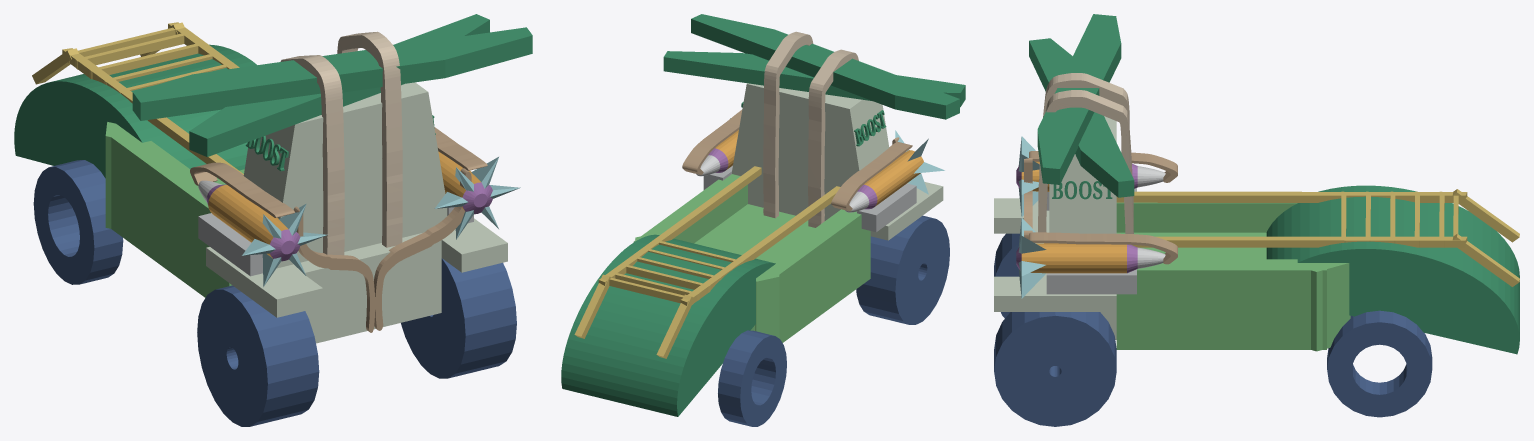
File: POGOlux-2.glb
The picture shows the model from 3 angles, left to right: view 1: azimuth 30°, elevation 25°; view 2: azimuth 150°, elevation 25°; view 3: azimuth 270°, elevation 25°; orthographic projection. The views are drawn at different scales.
Visible parts, largest first — view 1: Mesh_Mesh_head_geo.001_lambert2SG.001; view 2: Mesh_Mesh_head_geo.001_lambert2SG.001; view 3: Mesh_Mesh_head_geo.001_lambert2SG.001.
Part boxes in pixels (x1=…): Mesh_Mesh_head_geo.001_lambert2SG.001: x1=14, y1=14, x2=532, y2=426; Mesh_Mesh_head_geo.001_lambert2SG.001: x1=561, y1=14, x2=965, y2=426; Mesh_Mesh_head_geo.001_lambert2SG.001: x1=994, y1=14, x2=1519, y2=426.
Bounding box in the file's own units: 20.95 × 18.5 × 30.
